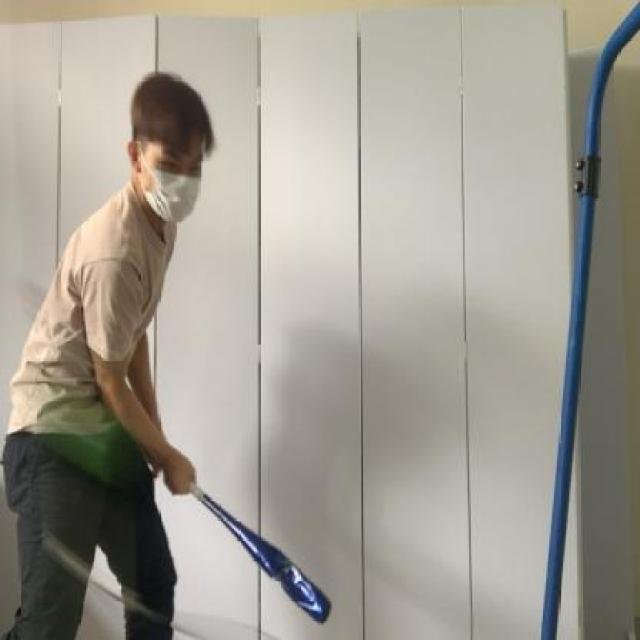baseball: (33, 391, 149, 491)
